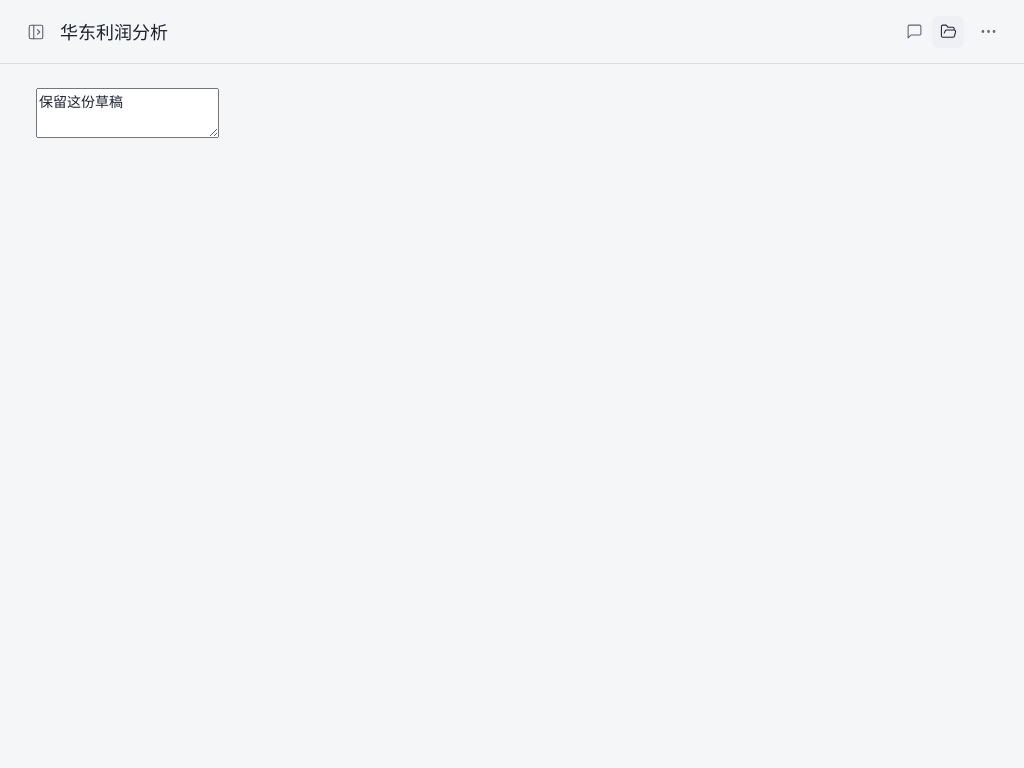
Test case: one task workspace › shows a failed archive in the menu and lets the same task retry
Press the mouse on the button named "这个任务" at (988, 32), box [972, 16, 1004, 48]
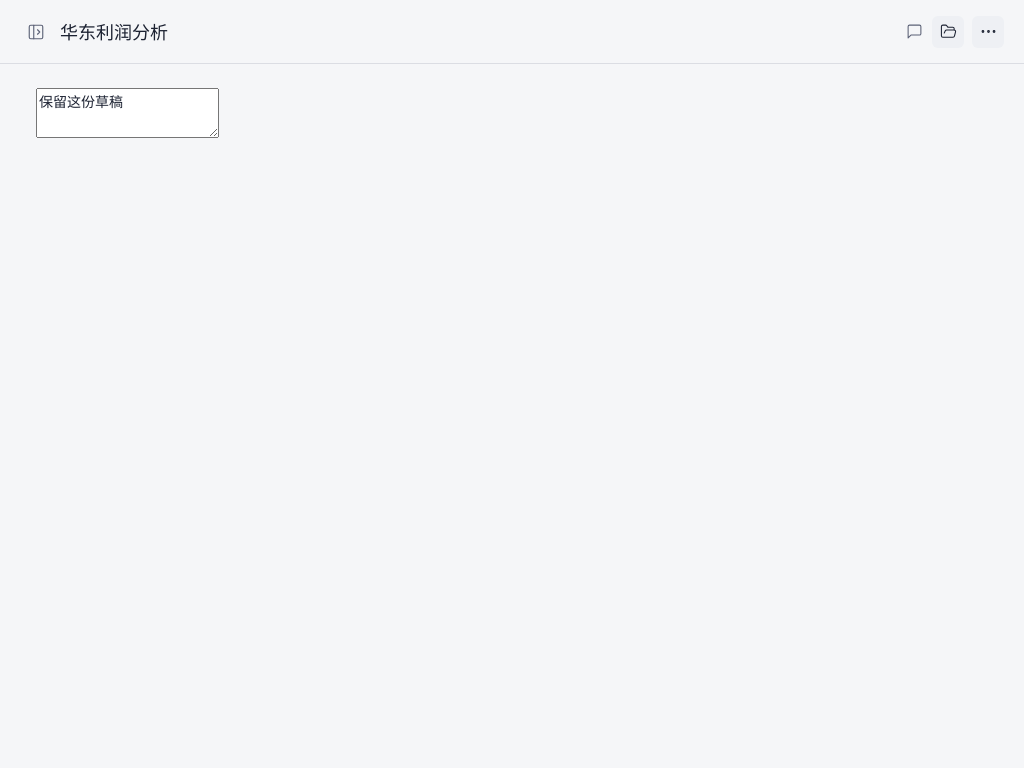
Click the button named "这个任务" at (988, 32), box [972, 16, 1004, 48]
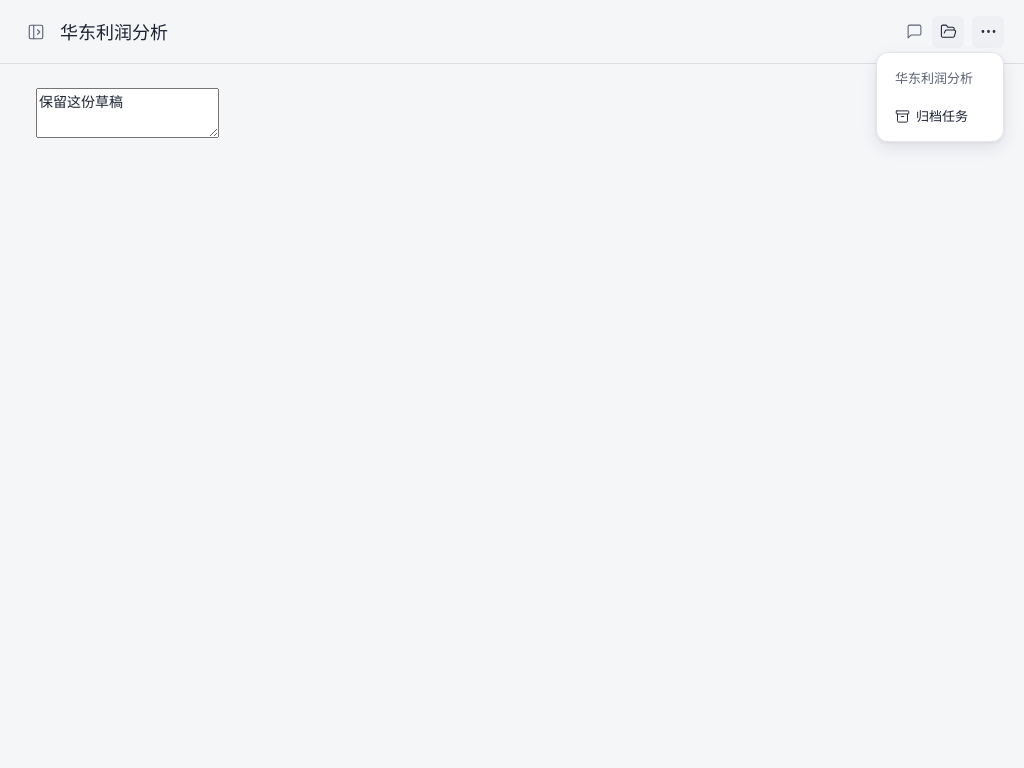
Click the menu item "归档任务" at (932, 116), box [895, 107, 968, 125]
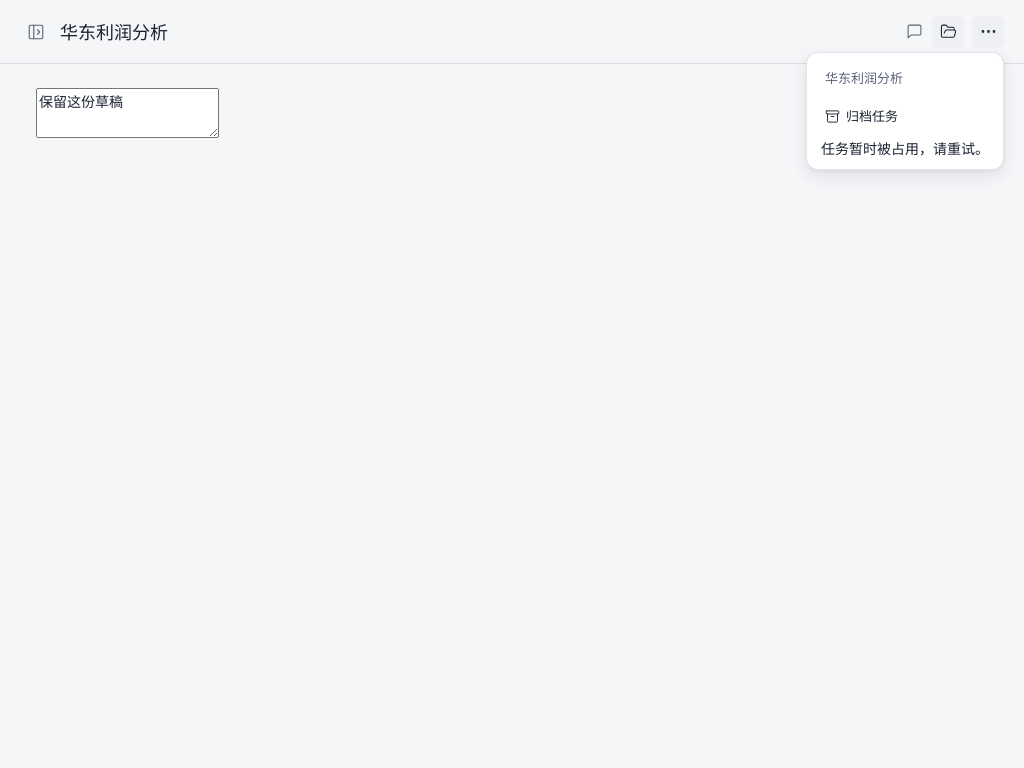
Expected: the heading "华东利润分析" is shown, [60, 18, 168, 46]
Now the message reads "任务暂时被占用，请重试。", box [821, 139, 989, 158]
Click the menu item "归档任务" at (862, 116), box [825, 107, 898, 125]
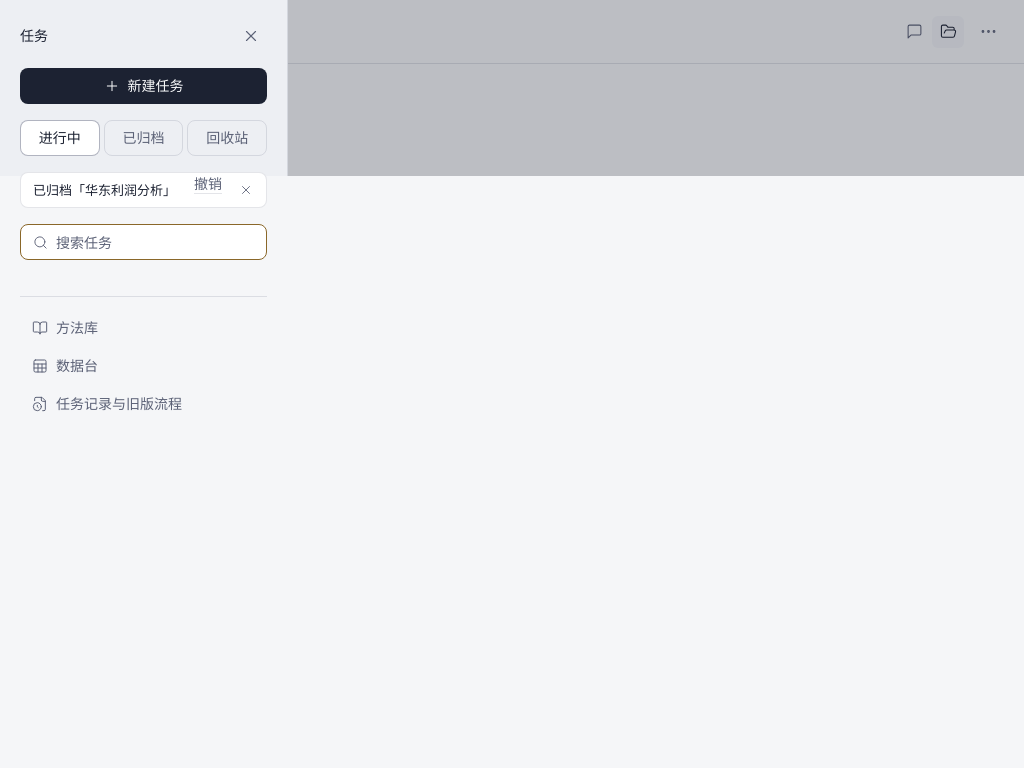
Now the menu item "归档任务" is gone
